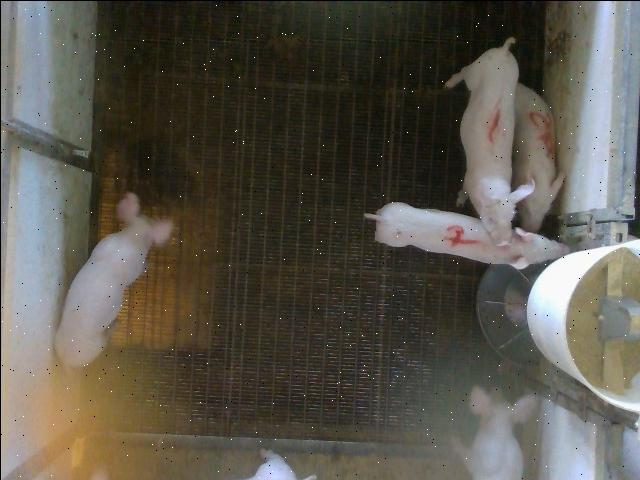pig-1: (444, 36, 534, 244)
pig-4: (365, 201, 569, 267)
pig-5: (511, 82, 564, 231)
